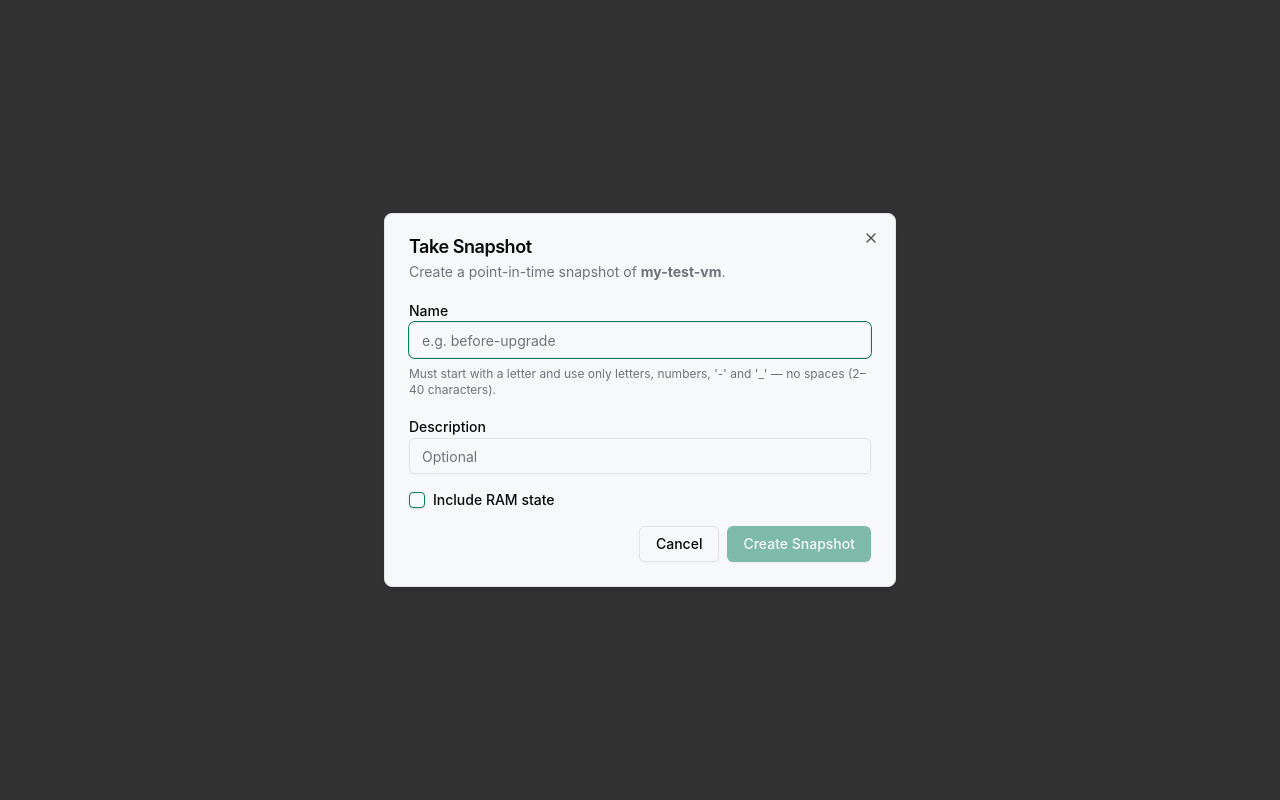
Test case: CreateSnapshotDialog › flags the reserved name current
Type "current" into the field labelled "Name" at (640, 340), box [409,322,871,358]
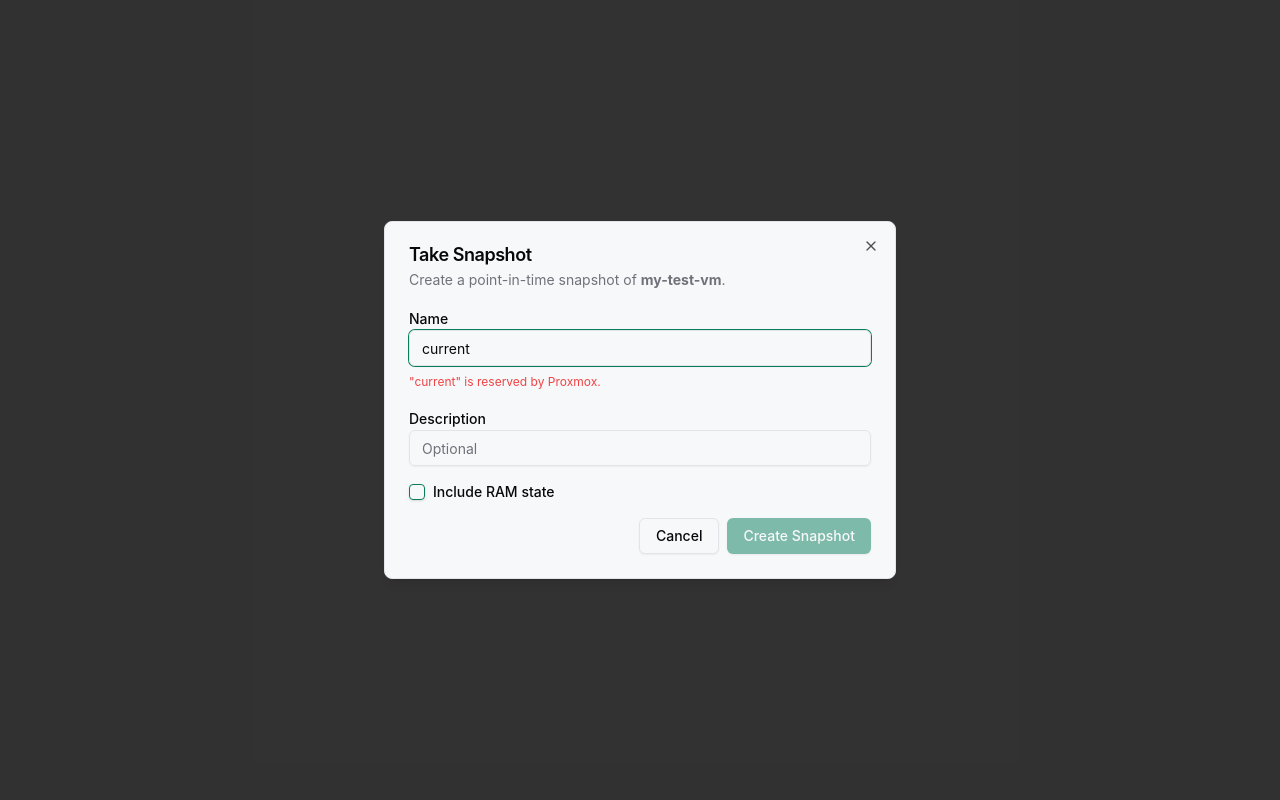
expect the button "Create Snapshot" is disabled: met, box [727,518,871,554]
expect the text "\"current\" is reserved by Proxmox." is shown: met, box [409,374,601,389]
